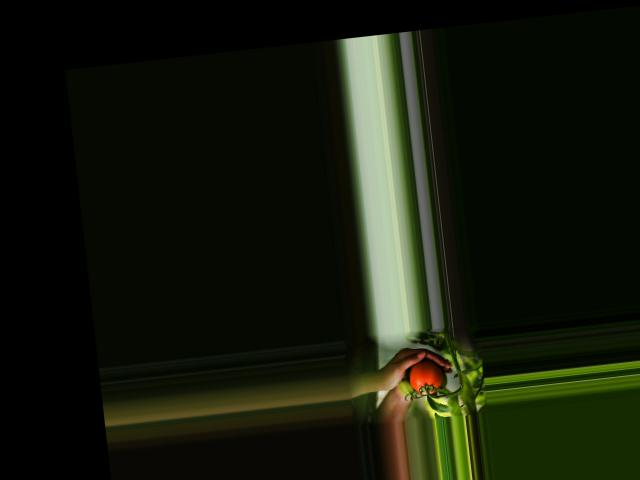tomato: (407, 358, 443, 395)
